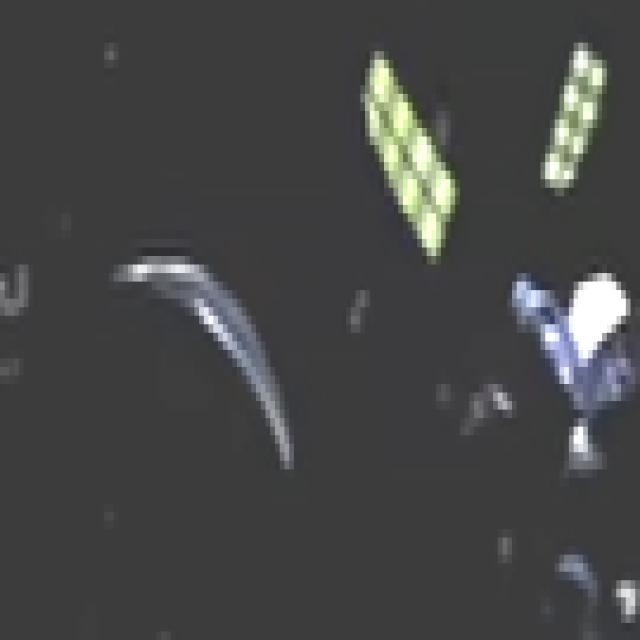large_debris: (101, 194, 302, 503), (491, 257, 640, 497), (342, 50, 468, 298), (534, 18, 621, 210), (543, 545, 640, 623), (0, 239, 33, 410)
